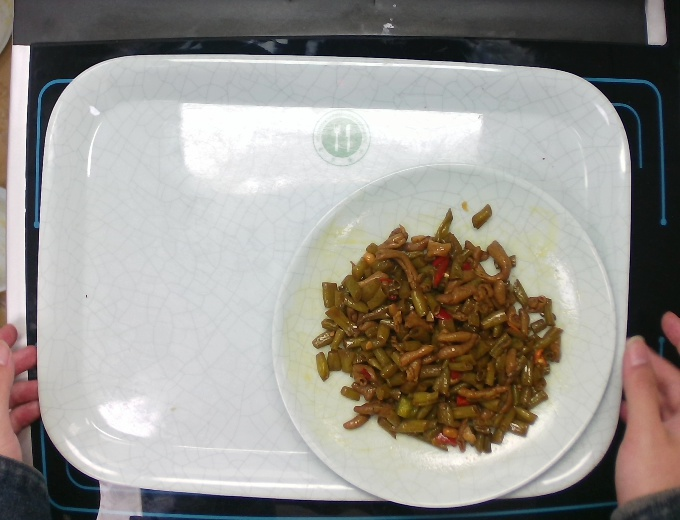JYsf-Da_Yuan_Pan: (268, 160, 621, 512)
